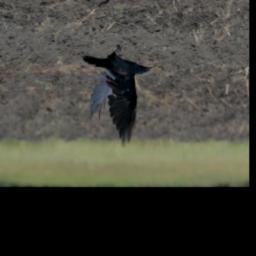Crow: (81, 43, 155, 149)
